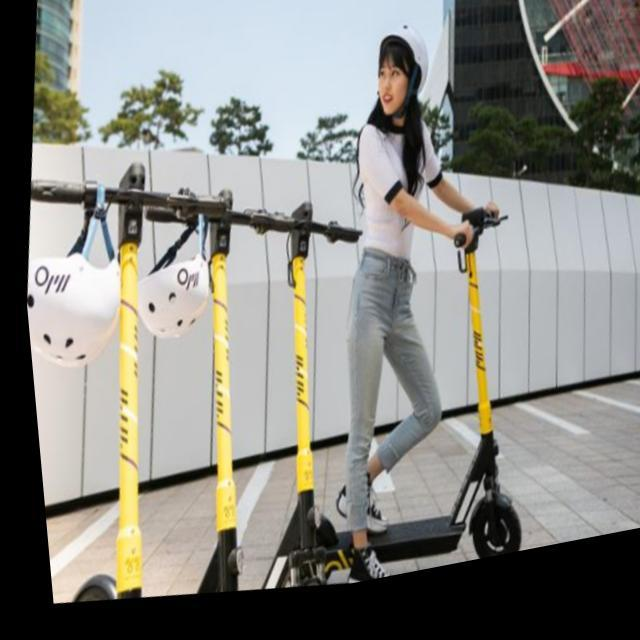Helmet: (364, 25, 437, 133)
